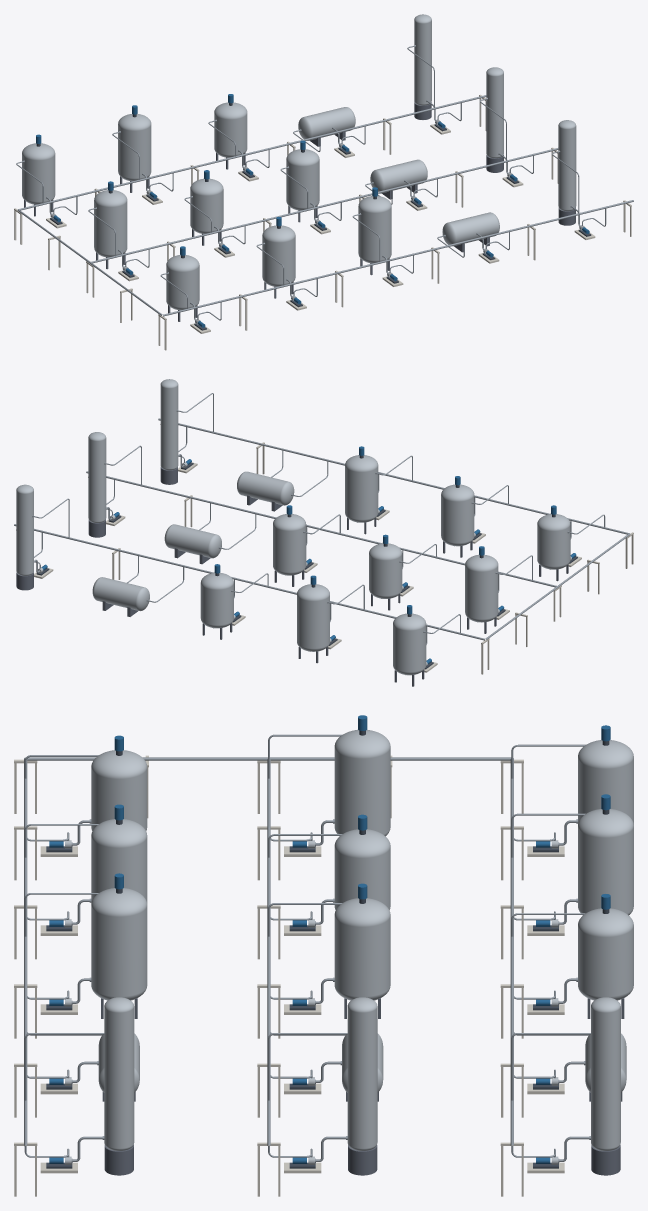
The picture shows the model from 3 angles, top to bottom: view 1: azimuth 30°, elevation 25°; view 2: azimuth 150°, elevation 25°; view 3: azimuth 270°, elevation 25°; orthographic projection. The views are drawn at different scales.
Visible parts, largest first — view 1: n-fef98974-d2a4-40e4-8c26-0e63fc997f12#0, n-f6c67276-baf0-4fe6-957a-12722d68b800#0, n-a3a3890c-4d99-4c91-901d-938bf4979ec4#0, n-fed2009b-da53-464a-b2fd-beb59aa5c8b2#0, n-aa33ba60-7fd8-4271-b236-913a6cc8328d#0, n-8aa79ace-db46-42a1-b0a5-5bdca9abfd8a#0, n-5d0722b6-61e8-48e8-aaaf-cecb31282bc3#0, n-2e3c2dc6-717d-4e95-912d-885d5c90ff43#0, n-78e2769c-9e8c-4a64-a7e5-161143a333f2#0, n-58c65683-7a24-4888-9fce-1820389d5c50#0, n-9587d640-18a9-4639-81e9-2a6b4799fdad#0, n-98df8311-ea16-405e-b426-5567158f2153#0 (+6 smaller); view 2: n-a3a3890c-4d99-4c91-901d-938bf4979ec4#0, n-fef98974-d2a4-40e4-8c26-0e63fc997f12#0, n-f6c67276-baf0-4fe6-957a-12722d68b800#0, n-aa33ba60-7fd8-4271-b236-913a6cc8328d#0, n-fed2009b-da53-464a-b2fd-beb59aa5c8b2#0, n-8aa79ace-db46-42a1-b0a5-5bdca9abfd8a#0, n-5d0722b6-61e8-48e8-aaaf-cecb31282bc3#0, n-2e3c2dc6-717d-4e95-912d-885d5c90ff43#0, n-78e2769c-9e8c-4a64-a7e5-161143a333f2#0, n-58c65683-7a24-4888-9fce-1820389d5c50#0, n-9587d640-18a9-4639-81e9-2a6b4799fdad#0, n-98df8311-ea16-405e-b426-5567158f2153#0 (+7 smaller); view 3: n-fef98974-d2a4-40e4-8c26-0e63fc997f12#0, n-a3a3890c-4d99-4c91-901d-938bf4979ec4#0, n-8aa79ace-db46-42a1-b0a5-5bdca9abfd8a#0, n-f6c67276-baf0-4fe6-957a-12722d68b800#0, n-5d0722b6-61e8-48e8-aaaf-cecb31282bc3#0, n-58c65683-7a24-4888-9fce-1820389d5c50#0, n-9587d640-18a9-4639-81e9-2a6b4799fdad#0, n-98df8311-ea16-405e-b426-5567158f2153#0, n-aa33ba60-7fd8-4271-b236-913a6cc8328d#0, n-2e3c2dc6-717d-4e95-912d-885d5c90ff43#0, n-78e2769c-9e8c-4a64-a7e5-161143a333f2#0, n-fed2009b-da53-464a-b2fd-beb59aa5c8b2#0 (+9 smaller).
Part boxes in pixels (<box>): n-fef98974-d2a4-40e4-8c26-0e63fc997f12#0: <box>358,196,391,263</box>; n-f6c67276-baf0-4fe6-957a-12722d68b800#0: <box>118,114,151,181</box>; n-a3a3890c-4d99-4c91-901d-938bf4979ec4#0: <box>94,190,127,257</box>; n-fed2009b-da53-464a-b2fd-beb59aa5c8b2#0: <box>22,143,55,204</box>; n-aa33ba60-7fd8-4271-b236-913a6cc8328d#0: <box>262,225,295,286</box>; n-8aa79ace-db46-42a1-b0a5-5bdca9abfd8a#0: <box>286,149,319,210</box>; n-5d0722b6-61e8-48e8-aaaf-cecb31282bc3#0: <box>214,102,247,157</box>; n-2e3c2dc6-717d-4e95-912d-885d5c90ff43#0: <box>166,255,199,310</box>; n-78e2769c-9e8c-4a64-a7e5-161143a333f2#0: <box>190,178,223,233</box>; n-58c65683-7a24-4888-9fce-1820389d5c50#0: <box>558,120,576,211</box>; n-9587d640-18a9-4639-81e9-2a6b4799fdad#0: <box>486,67,503,158</box>; n-98df8311-ea16-405e-b426-5567158f2153#0: <box>414,14,431,105</box>; n-a3a3890c-4d99-4c91-901d-938bf4979ec4#0: <box>465,554,498,622</box>; n-fef98974-d2a4-40e4-8c26-0e63fc997f12#0: <box>345,455,378,522</box>; n-f6c67276-baf0-4fe6-957a-12722d68b800#0: <box>297,584,329,651</box>; n-aa33ba60-7fd8-4271-b236-913a6cc8328d#0: <box>441,484,474,546</box>; n-fed2009b-da53-464a-b2fd-beb59aa5c8b2#0: <box>393,613,426,675</box>; n-8aa79ace-db46-42a1-b0a5-5bdca9abfd8a#0: <box>273,514,306,575</box>; n-5d0722b6-61e8-48e8-aaaf-cecb31282bc3#0: <box>200,572,233,628</box>; n-2e3c2dc6-717d-4e95-912d-885d5c90ff43#0: <box>537,514,570,569</box>; n-78e2769c-9e8c-4a64-a7e5-161143a333f2#0: <box>369,543,402,598</box>; n-58c65683-7a24-4888-9fce-1820389d5c50#0: <box>160,379,178,470</box>; n-9587d640-18a9-4639-81e9-2a6b4799fdad#0: <box>88,432,106,522</box>; n-98df8311-ea16-405e-b426-5567158f2153#0: <box>16,484,33,575</box>; n-fef98974-d2a4-40e4-8c26-0e63fc997f12#0: <box>91,888,147,1000</box>; n-a3a3890c-4d99-4c91-901d-938bf4979ec4#0: <box>334,729,390,836</box>; n-8aa79ace-db46-42a1-b0a5-5bdca9abfd8a#0: <box>334,898,390,1000</box>; n-f6c67276-baf0-4fe6-957a-12722d68b800#0: <box>578,809,633,915</box>; n-5d0722b6-61e8-48e8-aaaf-cecb31282bc3#0: <box>578,908,633,1000</box>; n-58c65683-7a24-4888-9fce-1820389d5c50#0: <box>104,997,134,1150</box>; n-9587d640-18a9-4639-81e9-2a6b4799fdad#0: <box>347,997,377,1150</box>; n-98df8311-ea16-405e-b426-5567158f2153#0: <box>591,997,620,1150</box>; n-aa33ba60-7fd8-4271-b236-913a6cc8328d#0: <box>91,819,147,903</box>; n-2e3c2dc6-717d-4e95-912d-885d5c90ff43#0: <box>91,750,147,830</box>; n-78e2769c-9e8c-4a64-a7e5-161143a333f2#0: <box>334,829,390,910</box>; n-fed2009b-da53-464a-b2fd-beb59aa5c8b2#0: <box>578,740,633,824</box>.
Size of the model in its own units: 49.62 by 10 by 33.12.
